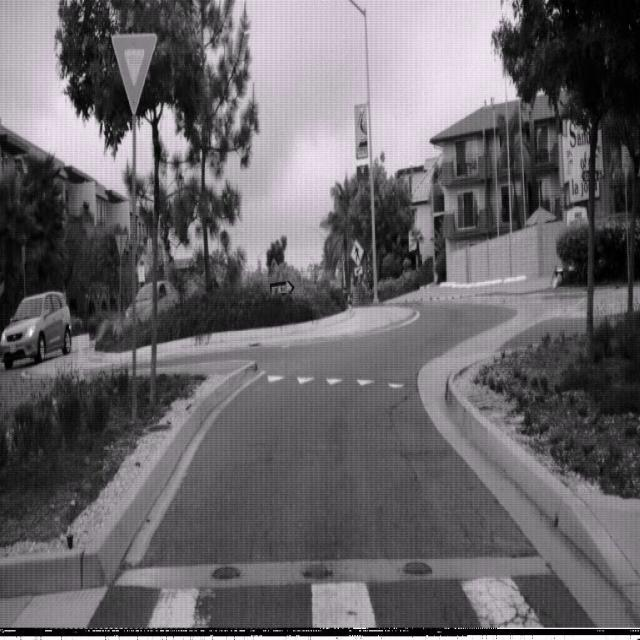pedestrianCrossing: (350, 238, 364, 267)
yield: (110, 31, 158, 115)
